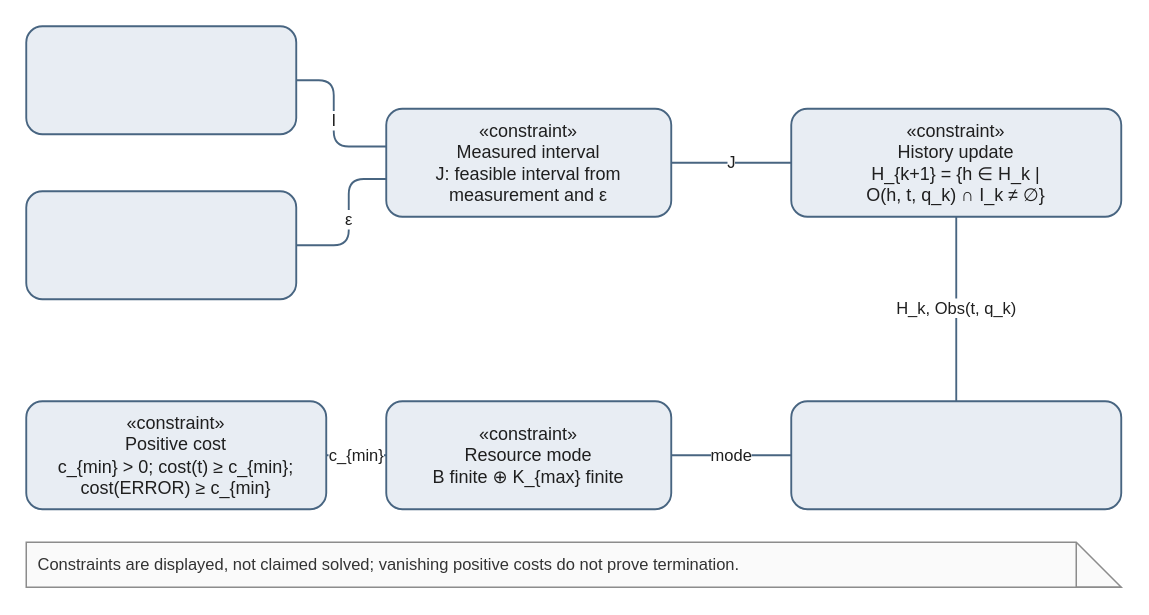
This 1149x615 diagram has some shape labels left out. The box of each missing label's shape, as (x1, y1, x2, y2) in pixels:
«constraint» Allowed interval I: allowed timing interval: (25, 25, 297, 135)
«constraint» Error bound ε: measurement error: (25, 190, 297, 300)
«constraint» Selection score s(t) = worst remaining |H_k| over Obs(t, q_k): (790, 400, 1122, 510)
